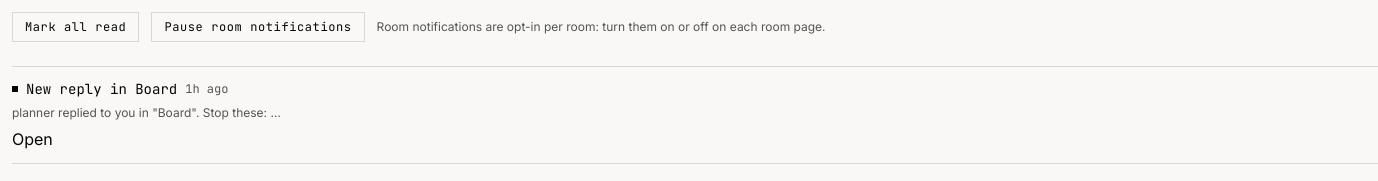
NotificationsInbox › pauses every room notification and shows the answered state
Click the button "Pause room notifications".
click(258, 27)  # box [151,12,365,42]
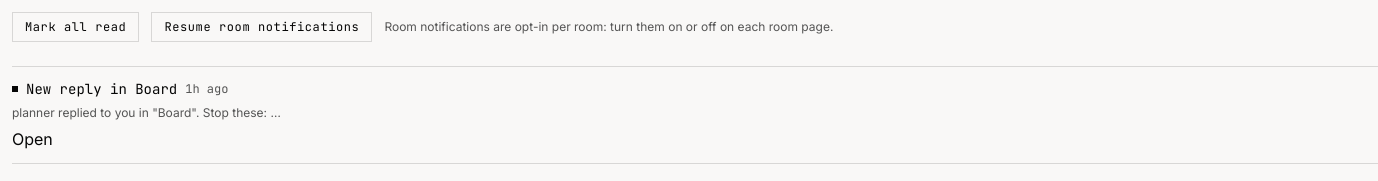
Now the button "Resume room notifications" is shown, box [151,12,372,42]
